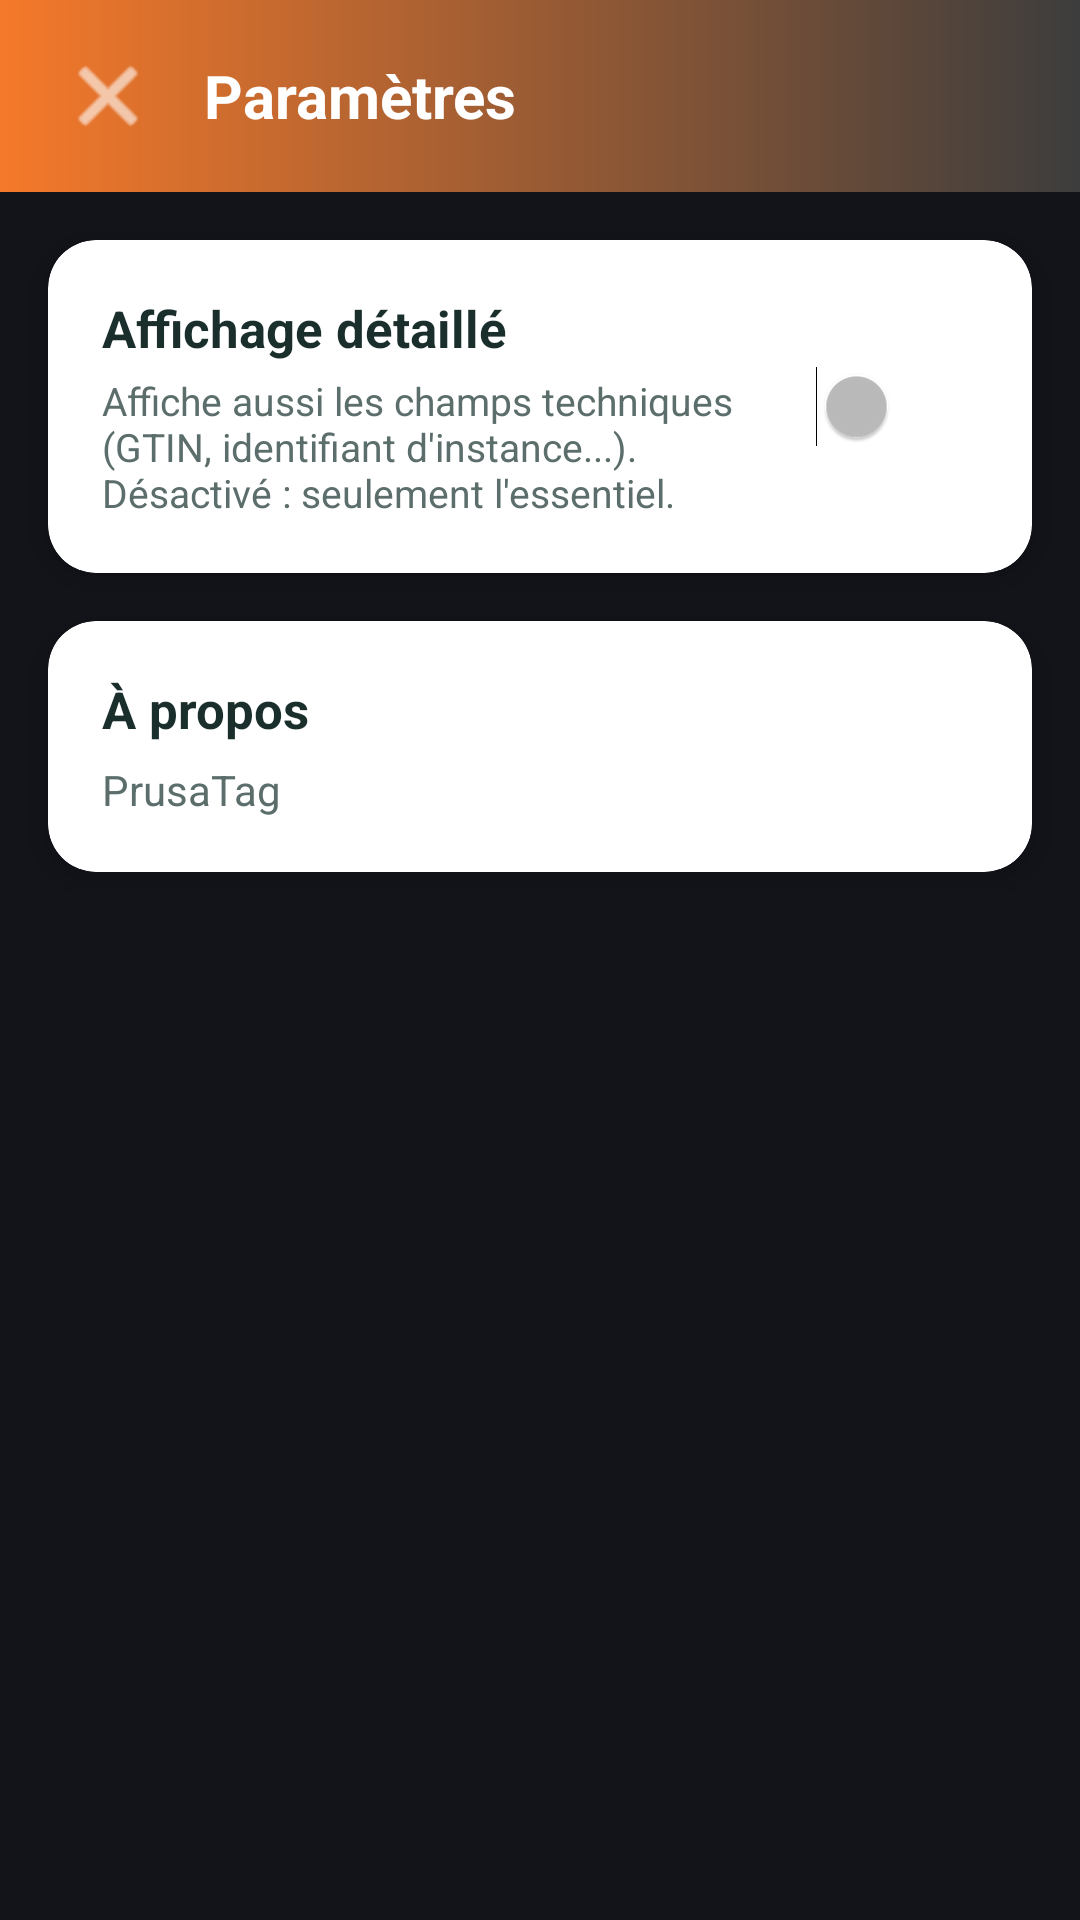

Icon bounding boxes for this 1080w x 1920h phone screenshot, format (x1, y1, x2, y2):
Retour: (78, 66, 138, 126)
